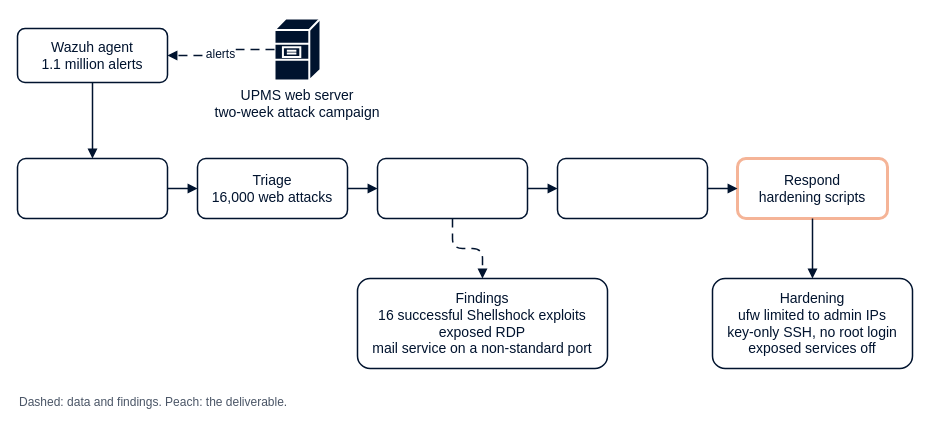
The diagram is 931 pixels wide and 429 high, and some of its shapes have lost their labels. Here are the shapes that lost their labels. From the top down, the centre of each, then its label:
point 92,188: Collect Kibana alert rules
point 452,188: Reconstruct Nmap, Hydra, Shellshock
point 632,188: Map MITRE ATT&CK
